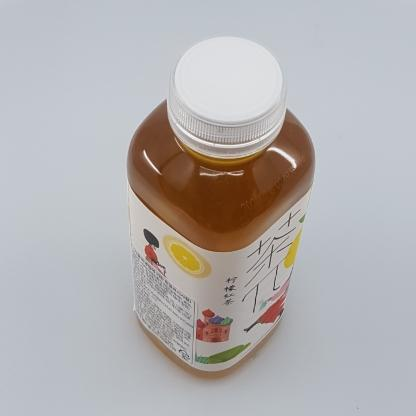------------: (127, 35, 316, 380)
